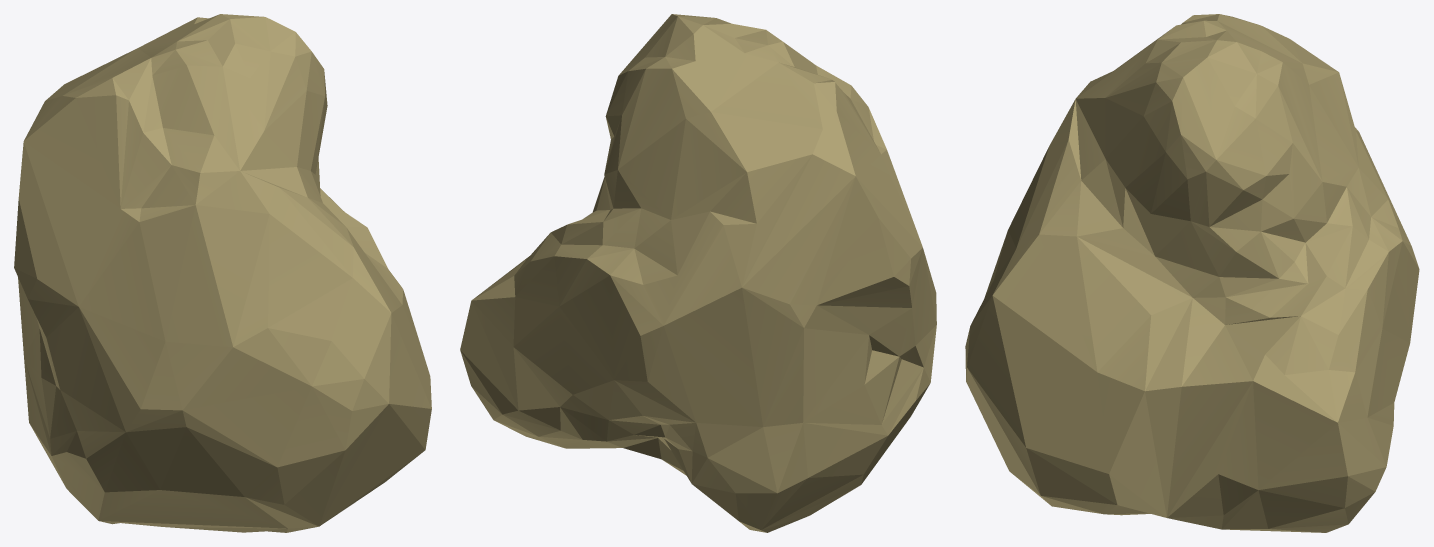
The model's file is SM_rock_28.fbx.
The picture shows the model from 3 angles, left to right: view 1: azimuth 30°, elevation 25°; view 2: azimuth 150°, elevation 25°; view 3: azimuth 270°, elevation 25°; orthographic projection. The views are drawn at different scales.
Visible parts, largest first — view 1: rock_28; view 2: rock_28; view 3: rock_28.
Part boxes in pixels (x1,y1,x2,y2): rock_28: (14, 14, 431, 532); rock_28: (460, 14, 936, 532); rock_28: (965, 14, 1419, 532).
Size of the model in its own units: 157 by 182 by 153.
